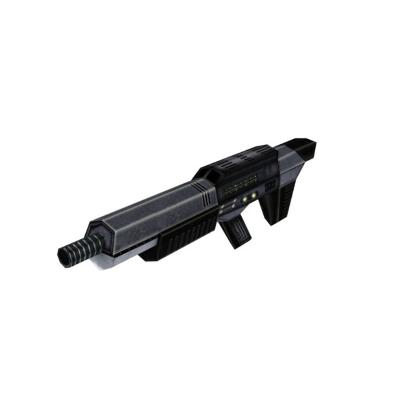gun: (56, 138, 316, 268)
